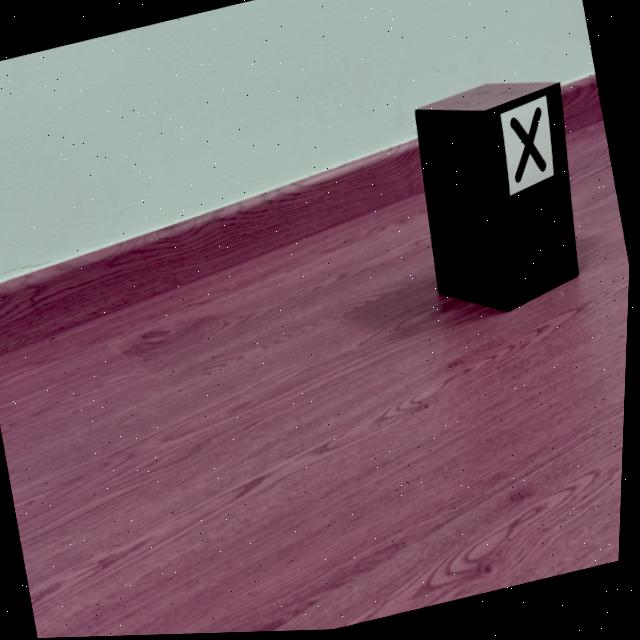X: (511, 110, 547, 186)
